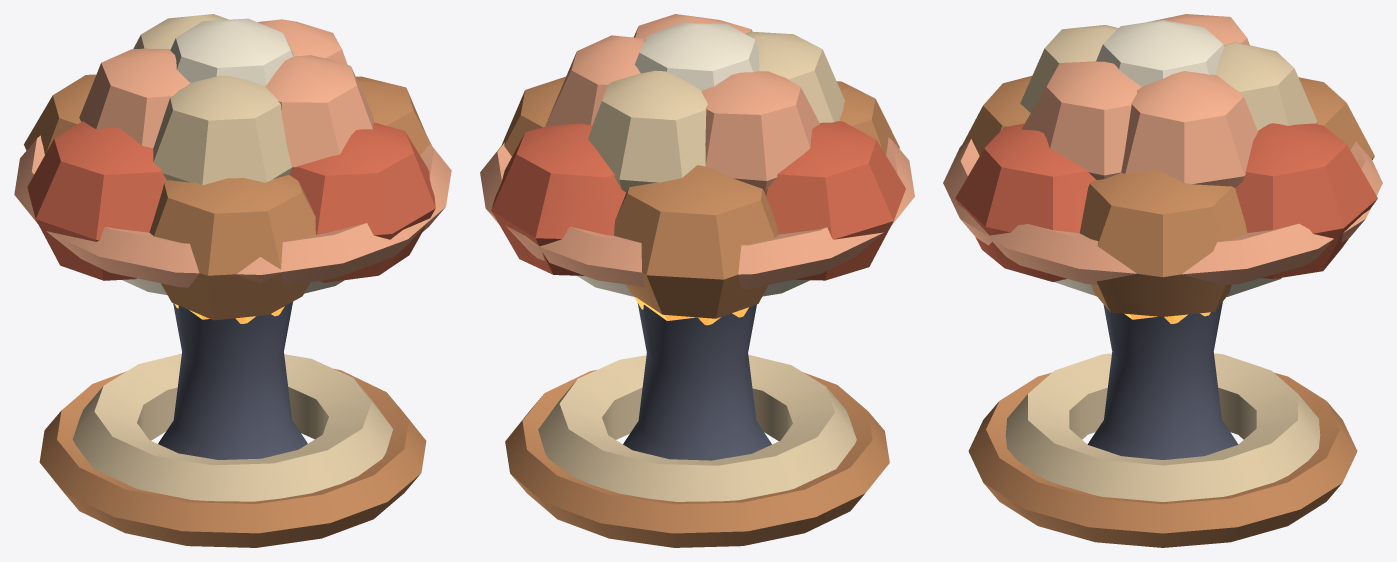
Rendered from mushroom_cloud.glb.
The picture shows the model from 3 angles, left to right: view 1: azimuth 30°, elevation 25°; view 2: azimuth 150°, elevation 25°; view 3: azimuth 270°, elevation 25°; orthographic projection.
Parts seen in each view (by area): view 1: mushroom_cloud; view 2: mushroom_cloud; view 3: mushroom_cloud.
Part boxes in pixels (x1,y1,x2,y2): mushroom_cloud: (14, 14, 451, 547); mushroom_cloud: (480, 14, 914, 547); mushroom_cloud: (943, 14, 1382, 547).
Size of the model in its own units: 1.06 by 1.17 by 1.04.
1 material, 1 textured.
